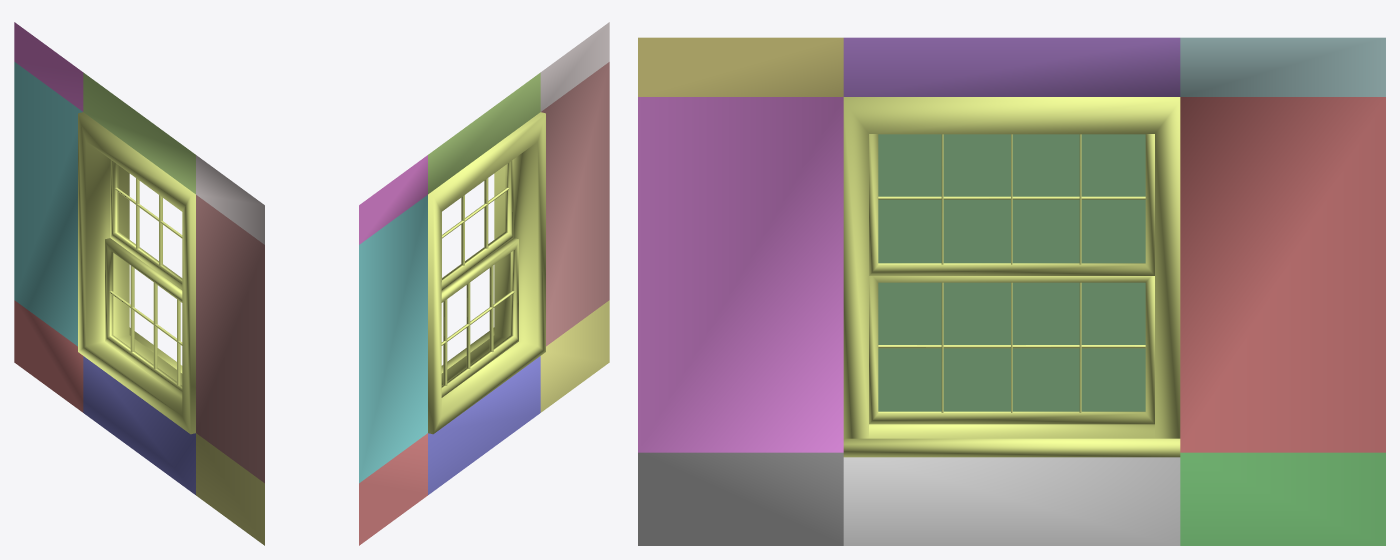
File: SM_window_03.gltf
3 renders of one model, left to right at view 1: azimuth 30°, elevation 25°; view 2: azimuth 150°, elevation 25°; view 3: azimuth 270°, elevation 25°, orthographic. The views are drawn at different scales.
Parts seen in each view (by area): view 1: SM_window_03; view 2: SM_window_03; view 3: SM_window_03.
Part boxes in pixels (<box>): SM_window_03: <box>14,22,264,545</box>; SM_window_03: <box>359,22,609,545</box>; SM_window_03: <box>638,37,1385,545</box>.
Size of the model in its own units: 0.4744 by 3 by 4.
